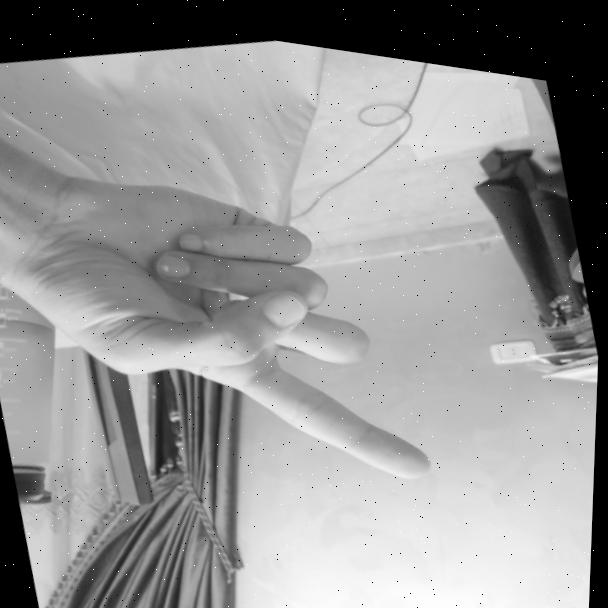one: (17, 122, 447, 549)
